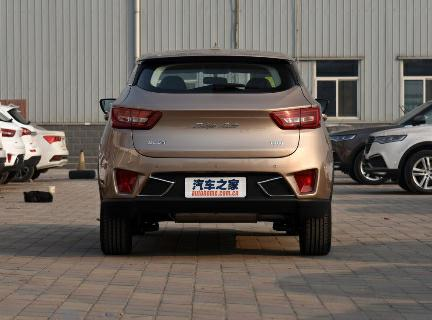众泰-T300: (91, 41, 341, 260)
